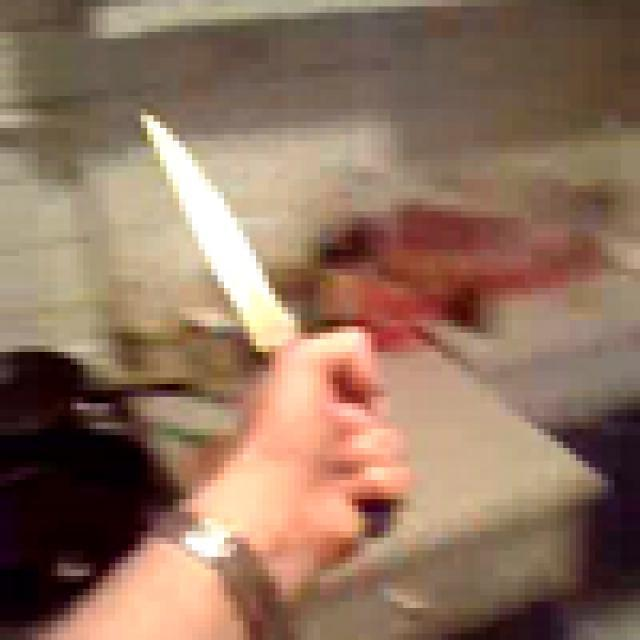Knife: (122, 96, 410, 525)
